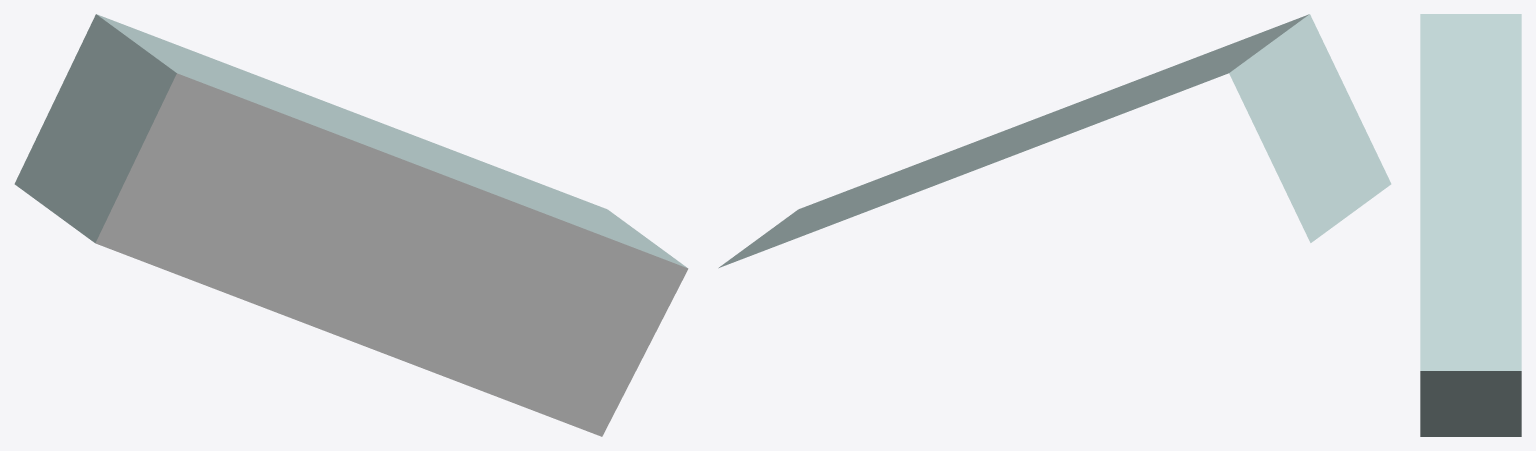
3 views of the same model, side by side, from view 1: azimuth 30°, elevation 25°; view 2: azimuth 150°, elevation 25°; view 3: azimuth 270°, elevation 25° (orthographic). The views are drawn at different scales.
Visible parts, largest first — view 1: 0_3_1_2_3_3_0_3_0; view 2: 0_3_1_2_3_3_0_3_0; view 3: 0_3_1_2_3_3_0_3_0.
Boxes of the visible parts, <box> form: 0_3_1_2_3_3_0_3_0: <box>14,14,688,436</box>; 0_3_1_2_3_3_0_3_0: <box>718,14,1391,268</box>; 0_3_1_2_3_3_0_3_0: <box>1420,14,1521,436</box>.
Size of the model in its own units: 12.69 by 9.56 by 3.
